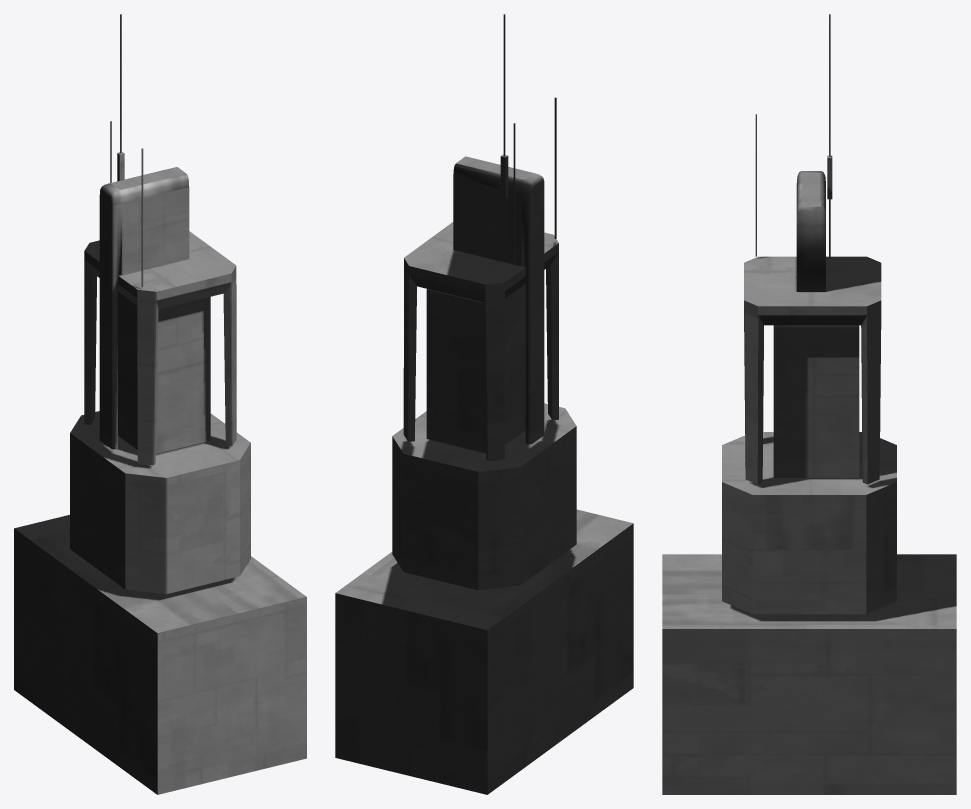
The model's file is ML2_Steel_Twr.FBX.
3 views of the same model, side by side, from view 1: azimuth 30°, elevation 25°; view 2: azimuth 150°, elevation 25°; view 3: azimuth 270°, elevation 25° (orthographic). The views are drawn at different scales.
Visible parts, largest first — view 1: ML2_Steel_Twr; view 2: ML2_Steel_Twr; view 3: ML2_Steel_Twr.
Boxes of the visible parts, left/top/right/bottom form: ML2_Steel_Twr: left=14, top=14, right=306, bottom=794; ML2_Steel_Twr: left=335, top=14, right=633, bottom=794; ML2_Steel_Twr: left=662, top=14, right=956, bottom=794.
Size of the model in its own units: 6.71 by 30.49 by 11.16.
1 material, 1 textured.
